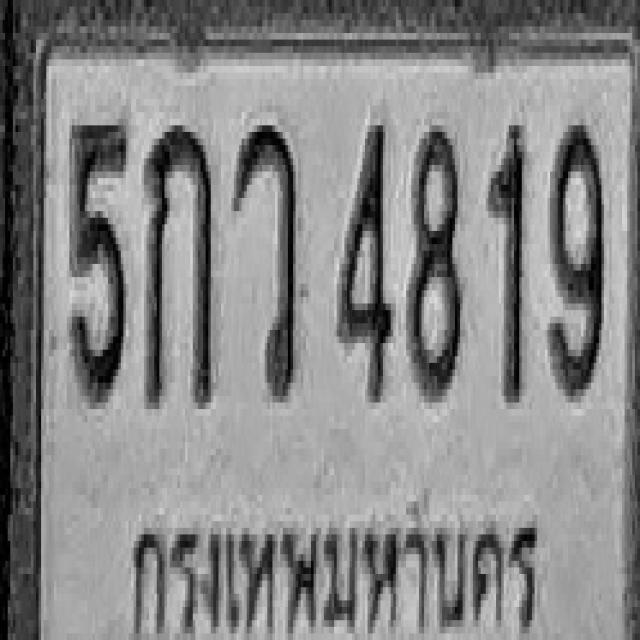1: (487, 119, 526, 402)
10GorGai: (145, 115, 212, 406)
4: (338, 116, 392, 399)
46WorWaen: (232, 119, 297, 396)
5: (71, 119, 127, 402)
8: (408, 119, 462, 396)
9: (548, 119, 602, 396)
Bangkok: (118, 467, 546, 640)
